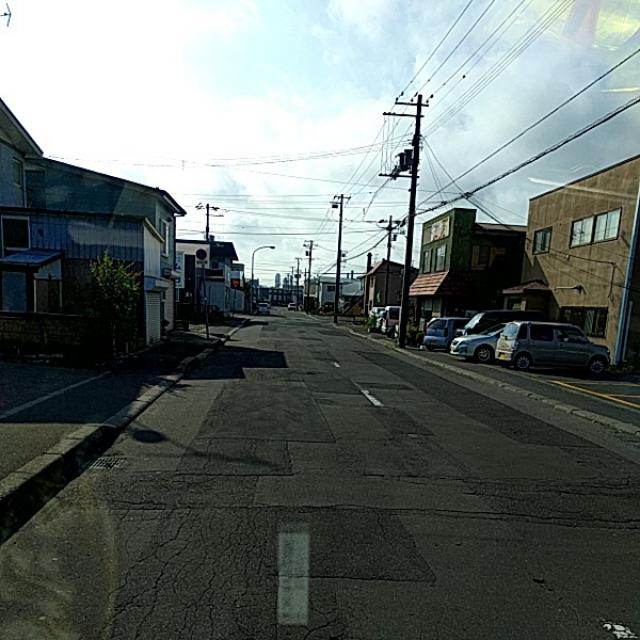pothole: (90, 450, 336, 622)
